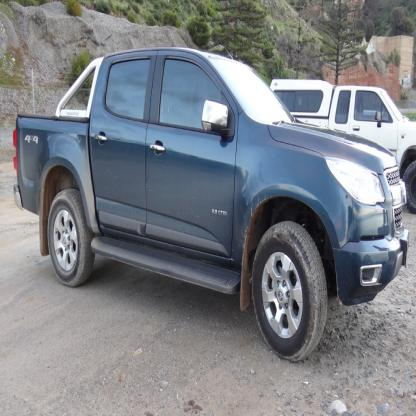Truck: (13, 47, 410, 362)
